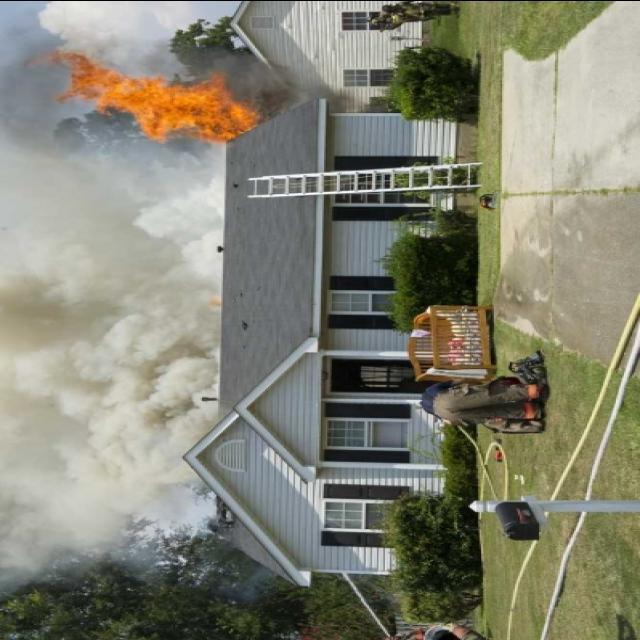Fire: (48, 52, 262, 142)
